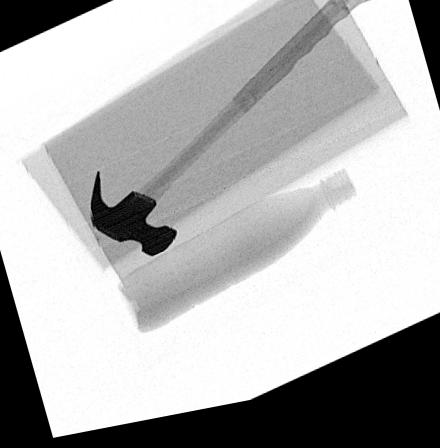Hammer: (88, 0, 379, 263)
